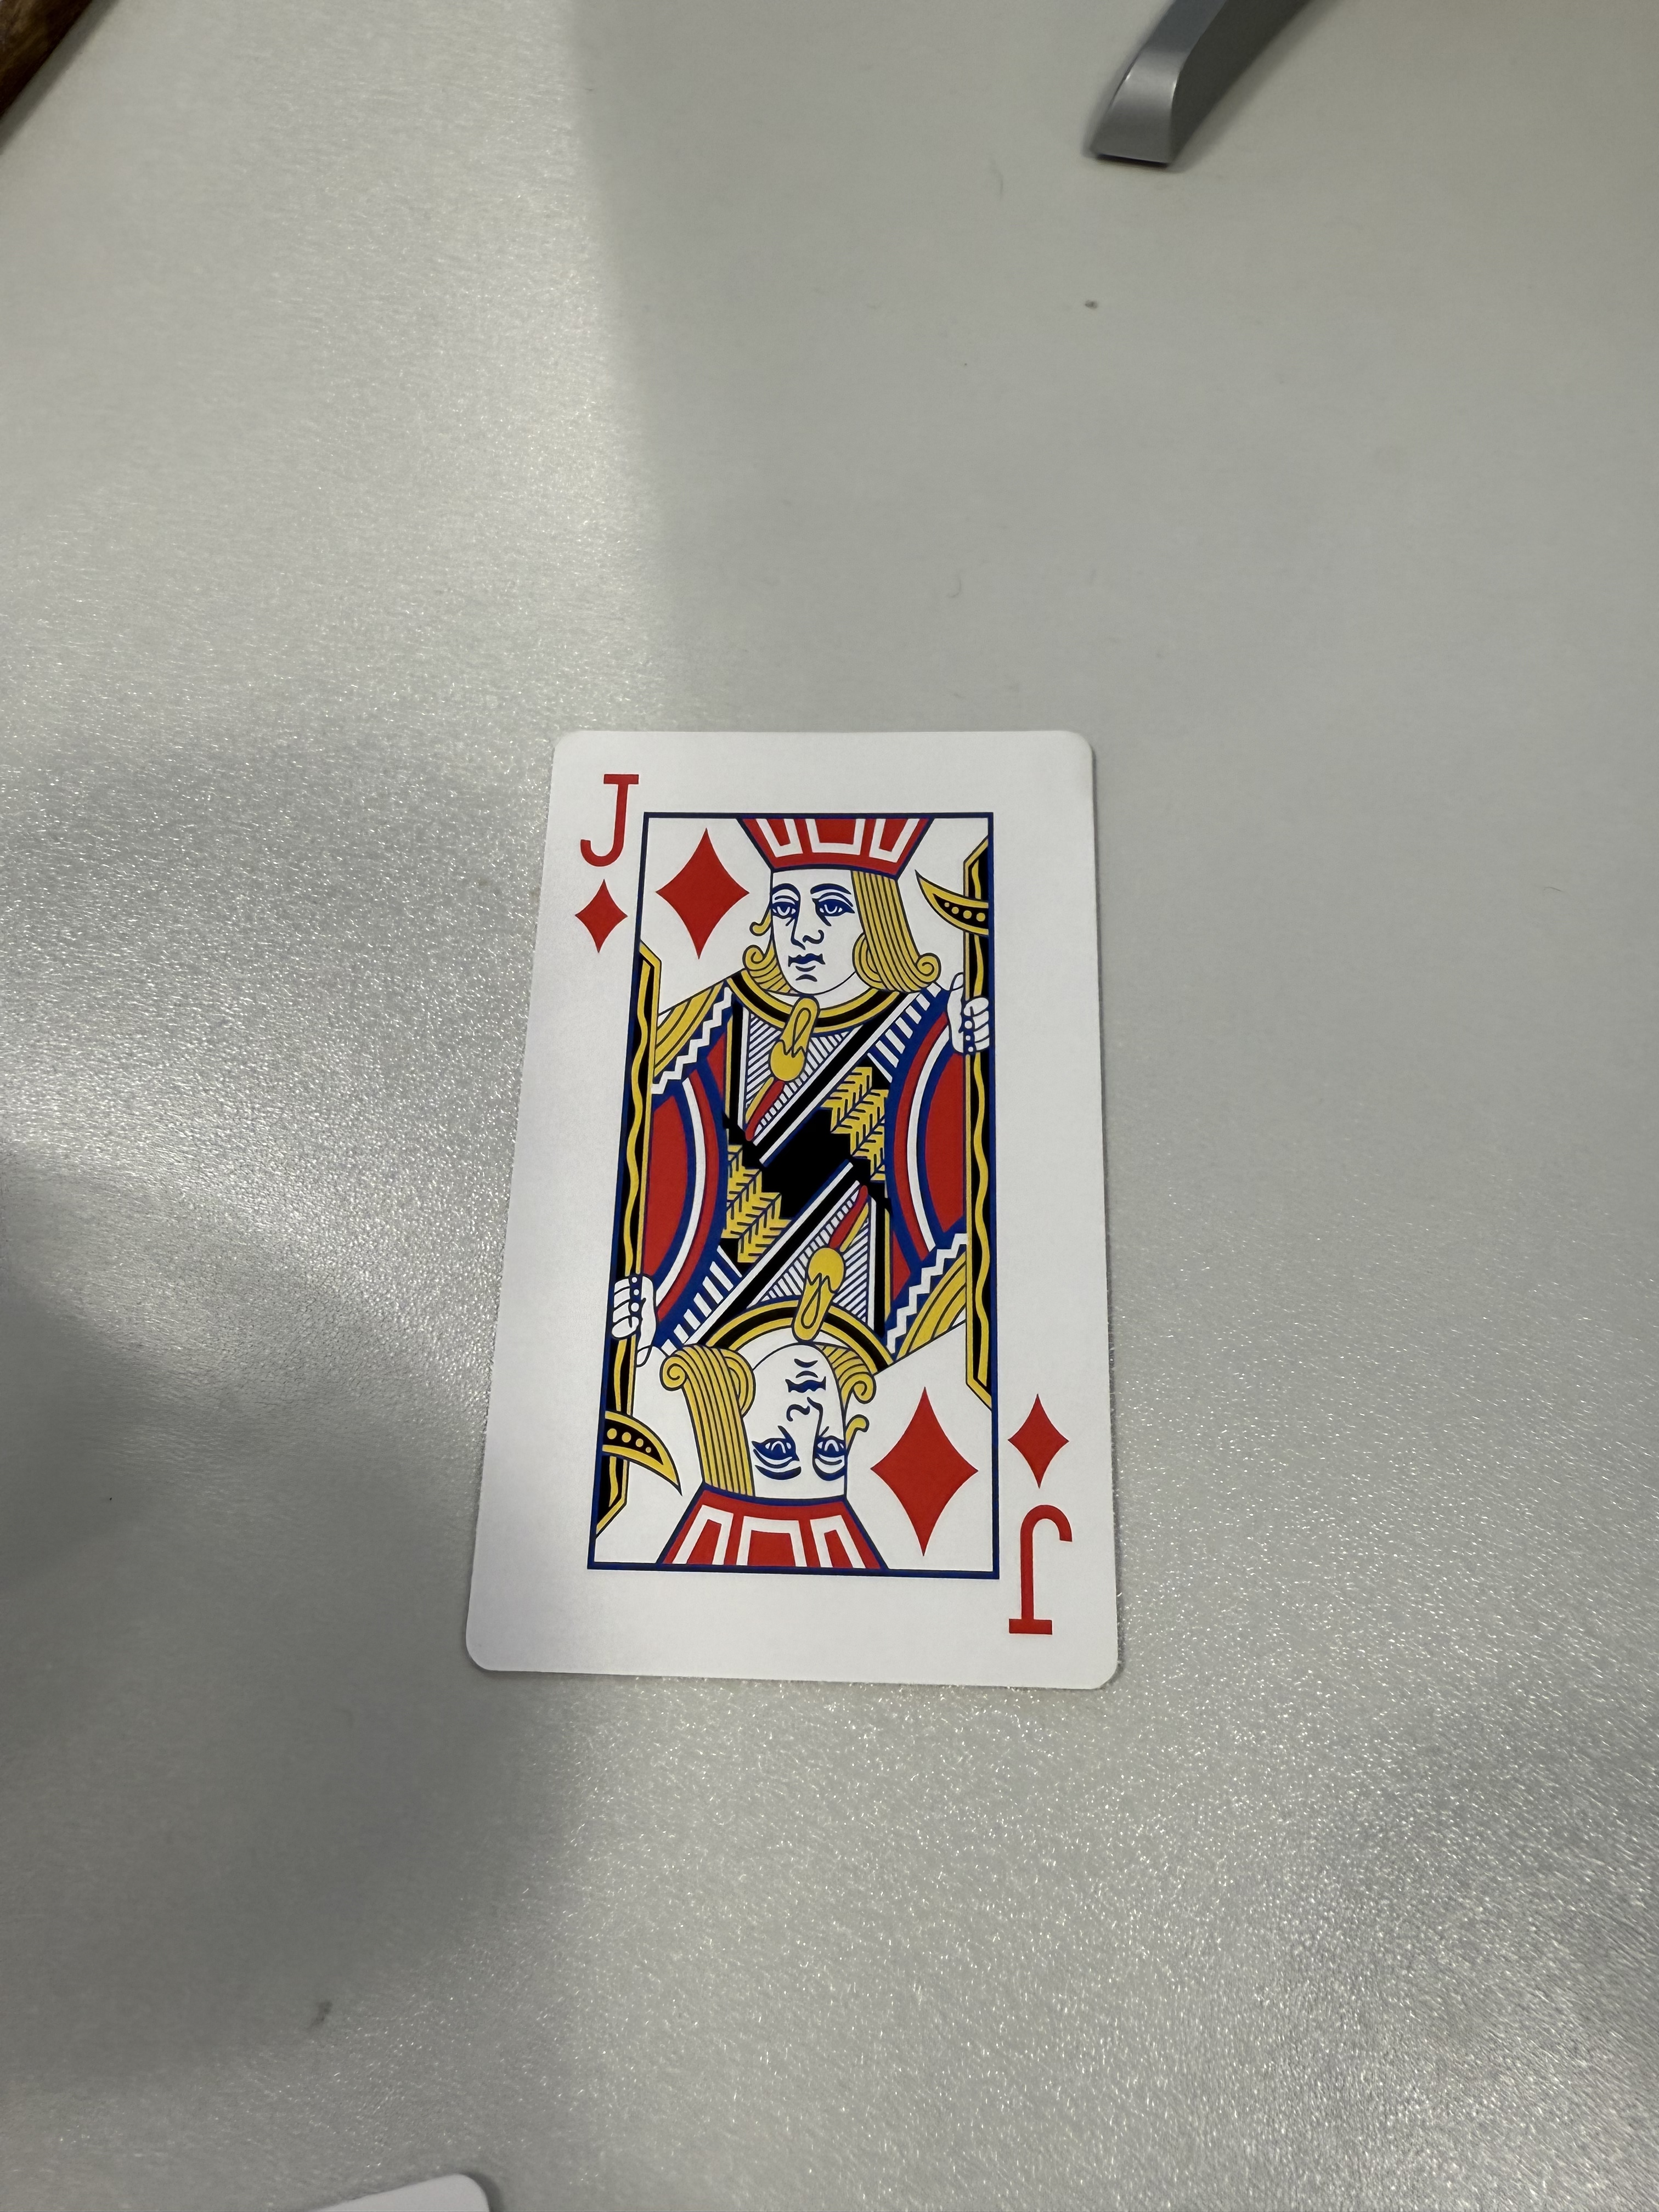poker: (450, 712, 1131, 1702)
